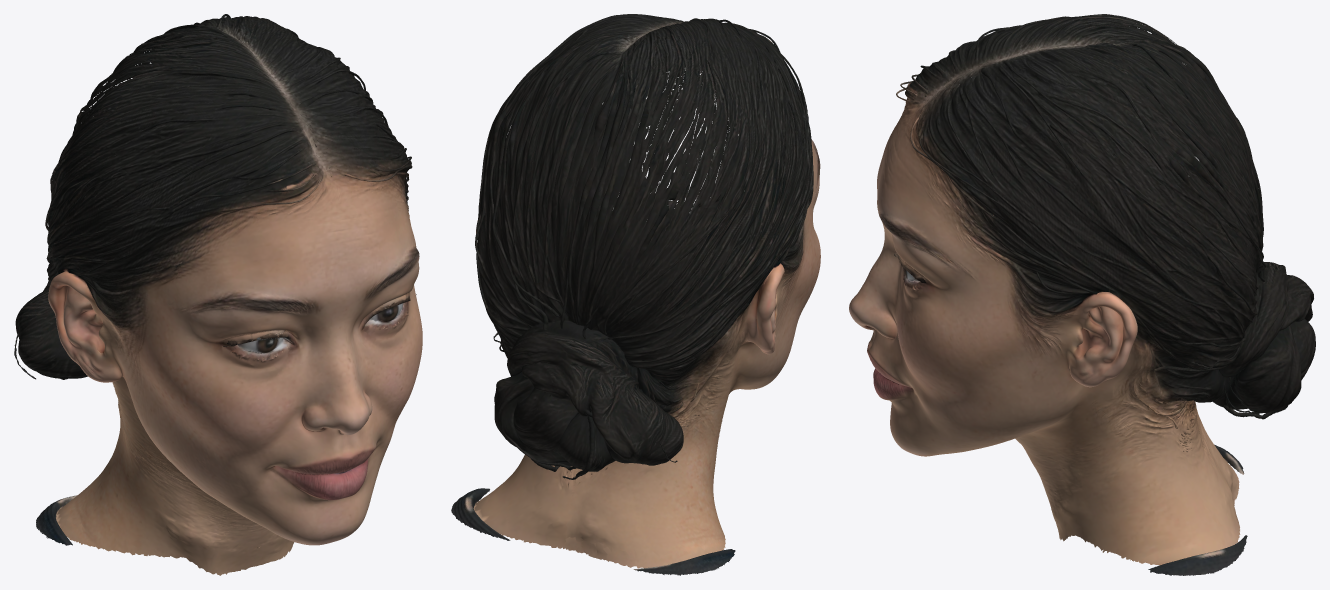
The model's file is skin_f.glb.
The picture shows the model from 3 angles, left to right: view 1: azimuth 30°, elevation 25°; view 2: azimuth 150°, elevation 25°; view 3: azimuth 270°, elevation 25°; orthographic projection. The views are drawn at different scales.
Visible parts, largest first — view 1: Skin; view 2: Skin; view 3: Skin.
Boxes of the visible parts, x1,y1,x2,y2 form: Skin: (14, 14, 422, 575); Skin: (451, 14, 820, 575); Skin: (849, 14, 1315, 575).
Bounding box in the file's own units: 0.1721 × 0.2681 × 0.229.
1 material, 1 textured.
